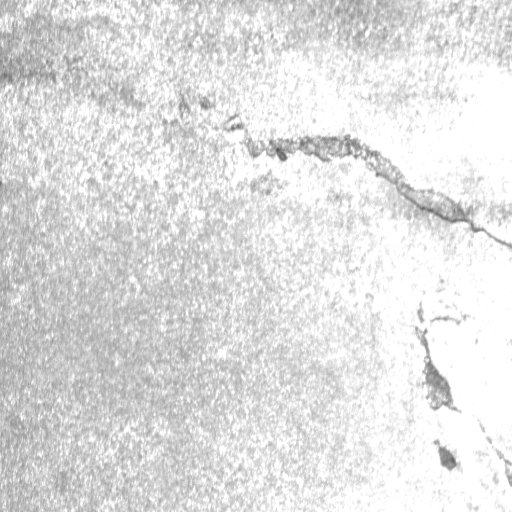hengxiangliewen: (266, 134, 512, 251)
